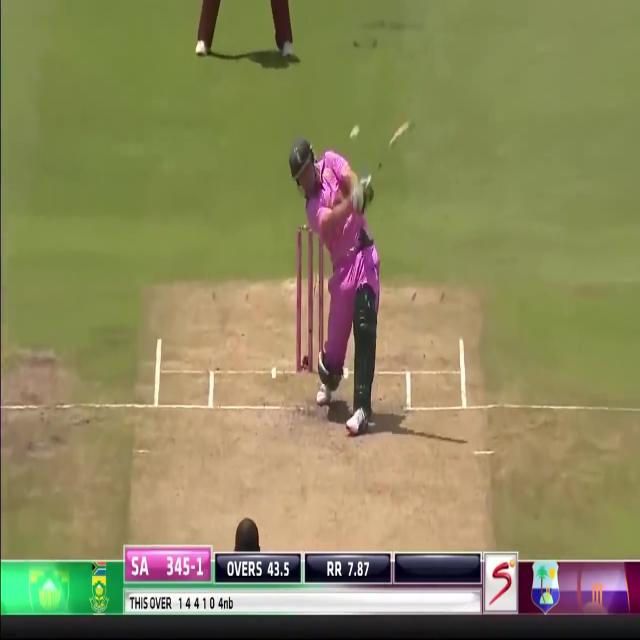Ball: (291, 117, 380, 427)
